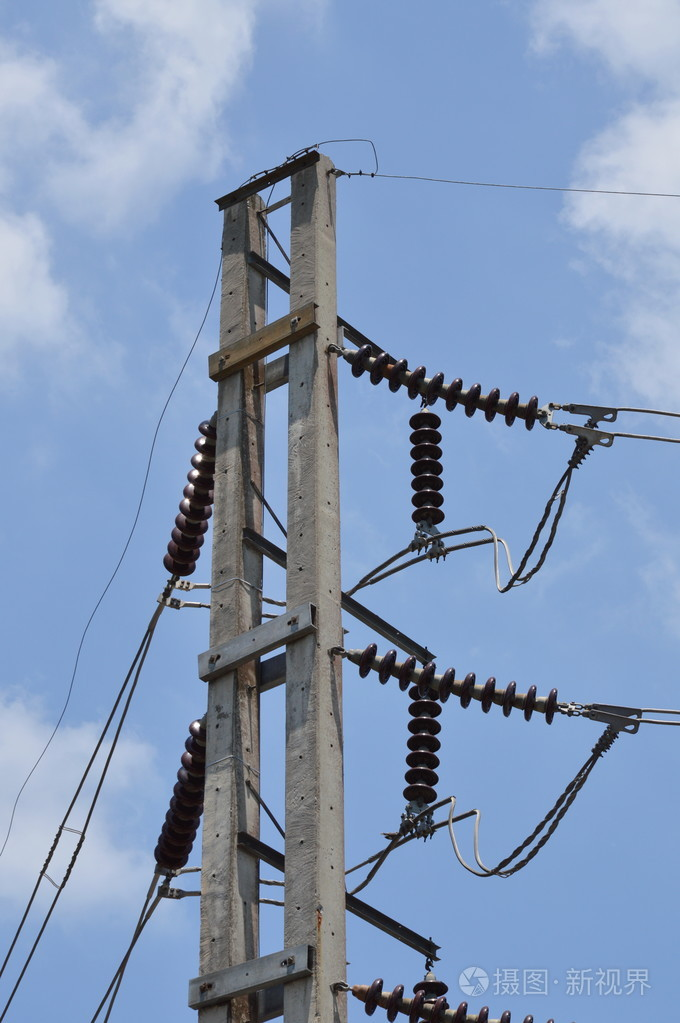insulator: (347, 346, 541, 430), (354, 647, 570, 722), (161, 420, 221, 573), (155, 719, 203, 868), (361, 980, 525, 1023), (404, 692, 438, 804), (412, 411, 445, 525)
